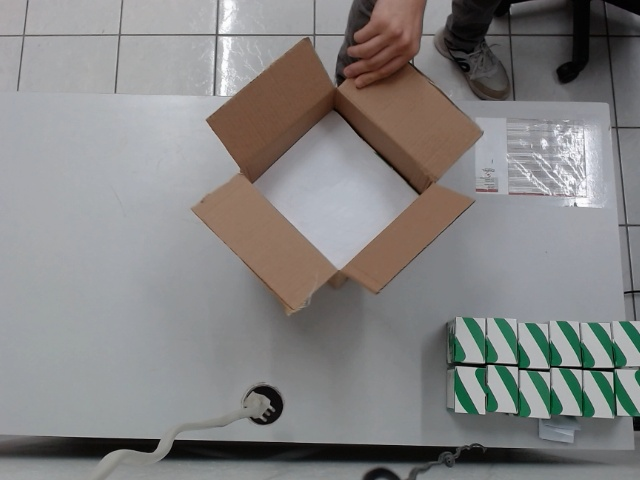caixa_principal: (187, 34, 482, 316)
